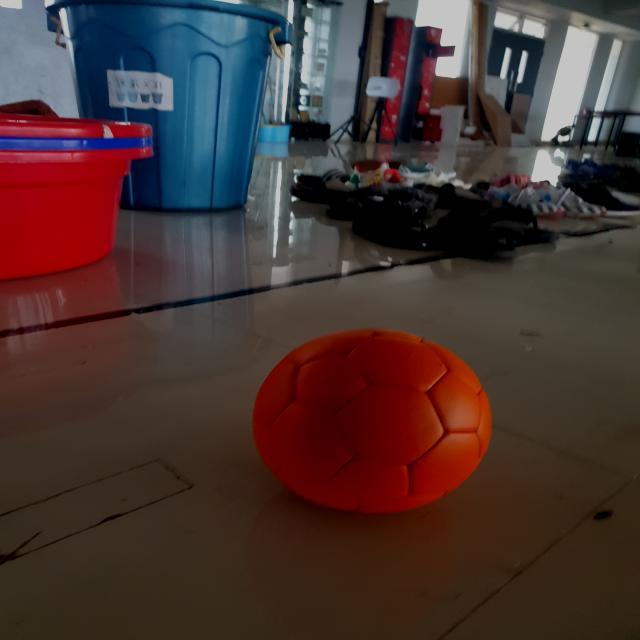bola: (245, 316, 501, 520)
